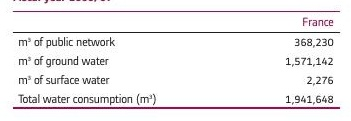table: (0, 0, 351, 121)
